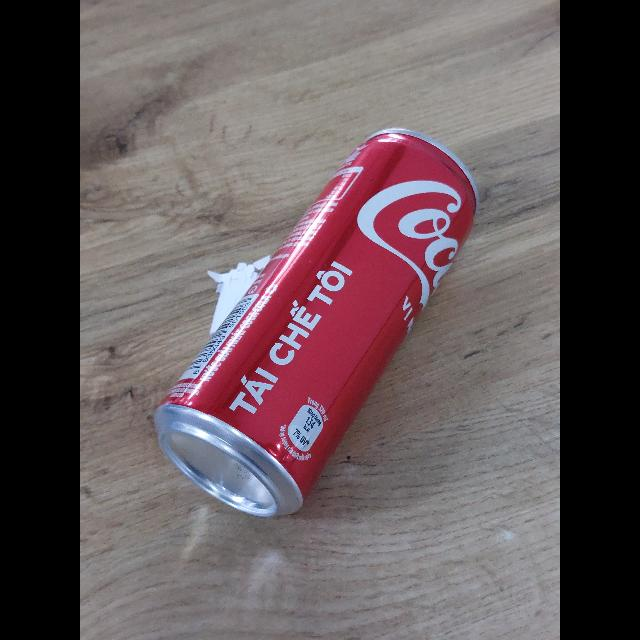coca_cola: (153, 128, 478, 521)
